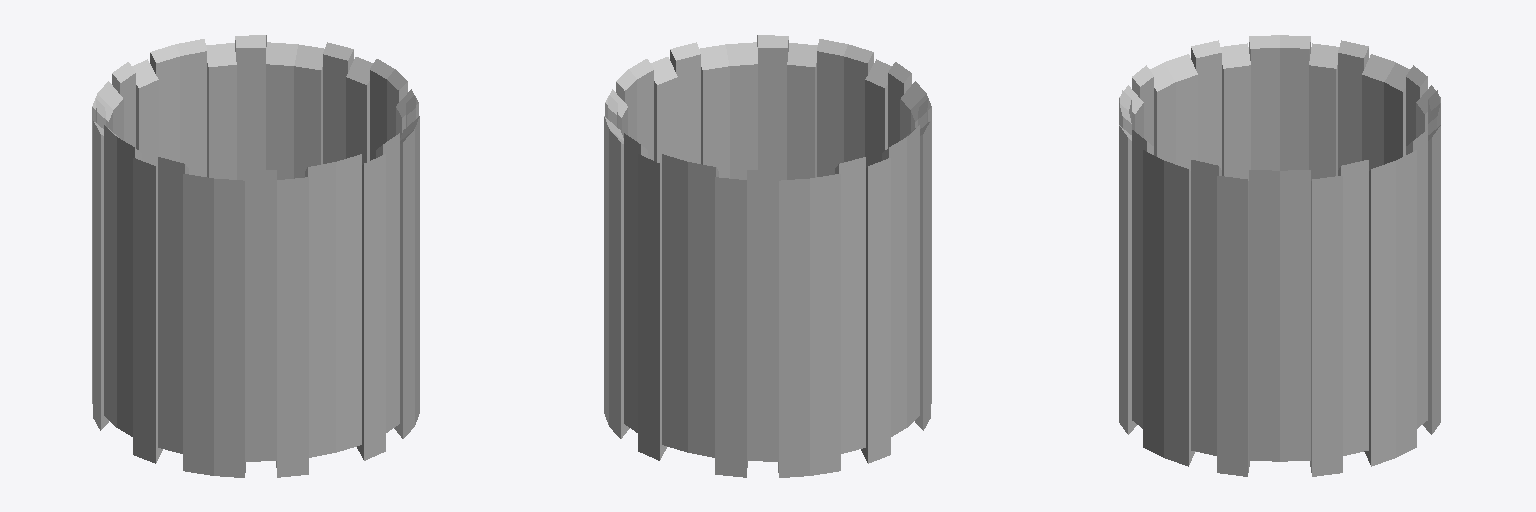
File: enclosure.obj
The picture shows the model from 3 angles: view 1: azimuth 30°, elevation 25°; view 2: azimuth 150°, elevation 25°; view 3: azimuth 270°, elevation 25°; orthographic projection.
Parts seen in each view (by area): view 1: Cylinder.020, Cylinder.008, Cylinder.019, Cylinder.009, Cylinder.011, Cylinder.021, Cylinder.014, Cylinder.010, Cylinder.018, Cylinder.017, Cylinder.002, Cylinder.007 (+9 smaller); view 2: Cylinder.023, Cylinder.002, Cylinder.001, Cylinder, Cylinder.011, Cylinder.022, Cylinder.017, Cylinder.012, Cylinder.013, Cylinder.014, Cylinder.008, Cylinder.003 (+9 smaller); view 3: Cylinder.005, Cylinder.017, Cylinder.014, Cylinder.016, Cylinder.015, Cylinder.011, Cylinder.006, Cylinder.004, Cylinder.023, Cylinder.020, Cylinder.018, Cylinder.013 (+10 smaller).
Boxes of the visible parts, <box> form: Cylinder.020: <box>183,174,245,477</box>; Cylinder.008: <box>305,154,361,457</box>; Cylinder.019: <box>276,177,308,477</box>; Cylinder.009: <box>245,170,276,461</box>; Cylinder.011: <box>104,125,141,436</box>; Cylinder.021: <box>133,158,162,463</box>; Cylinder.014: <box>266,42,323,179</box>; Cylinder.010: <box>158,157,188,453</box>; Cylinder.018: <box>357,154,385,460</box>; Cylinder.017: <box>394,116,419,438</box>; Cylinder.002: <box>150,39,206,176</box>; Cylinder.007: <box>376,133,399,432</box>; Cylinder.023: <box>778,174,840,477</box>; Cylinder.002: <box>662,154,718,457</box>; Cylinder.001: <box>715,177,747,477</box>; Cylinder: <box>747,170,778,461</box>; Cylinder.011: <box>882,125,919,436</box>; Cylinder.022: <box>861,158,890,463</box>; Cylinder.017: <box>700,42,757,179</box>; Cylinder.012: <box>835,157,865,453</box>; Cylinder.013: <box>638,154,666,460</box>; Cylinder.014: <box>604,116,629,438</box>; Cylinder.008: <box>817,39,873,176</box>; Cylinder.003: <box>624,133,647,432</box>; Cylinder.005: <box>1249,170,1310,461</box>; Cylinder.017: <box>1143,150,1195,466</box>; Cylinder.014: <box>1364,150,1416,466</box>; Cylinder.016: <box>1217,176,1249,476</box>; Cylinder.015: <box>1310,176,1342,476</box>; Cylinder.011: <box>1249,35,1310,170</box>; Cylinder.006: <box>1191,160,1221,455</box>; Cylinder.004: <box>1338,160,1368,455</box>; Cylinder.023: <box>1362,54,1409,170</box>; Cylinder.020: <box>1150,54,1197,170</box>; Cylinder.018: <box>1119,125,1136,434</box>; Cylinder.013: <box>1423,125,1440,434</box>.
Bounding box in the file's own units: 2.01 × 2.1 × 2.01.